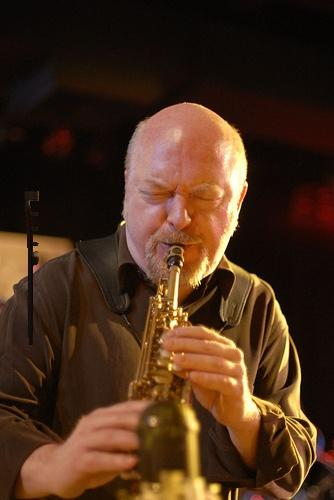tampered: (25, 192, 39, 345)
